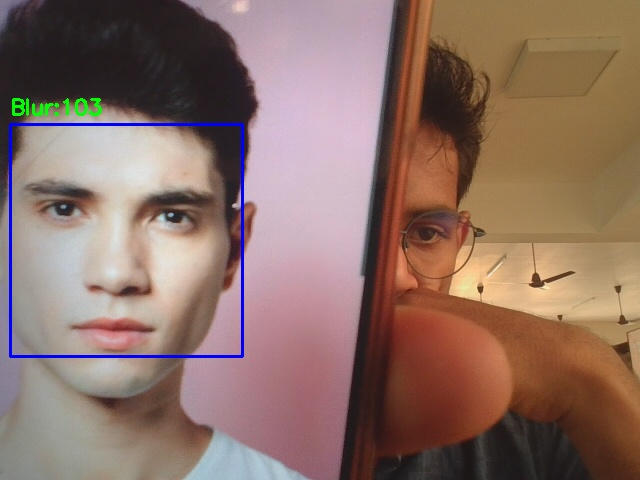fake: (10, 124, 242, 356)
